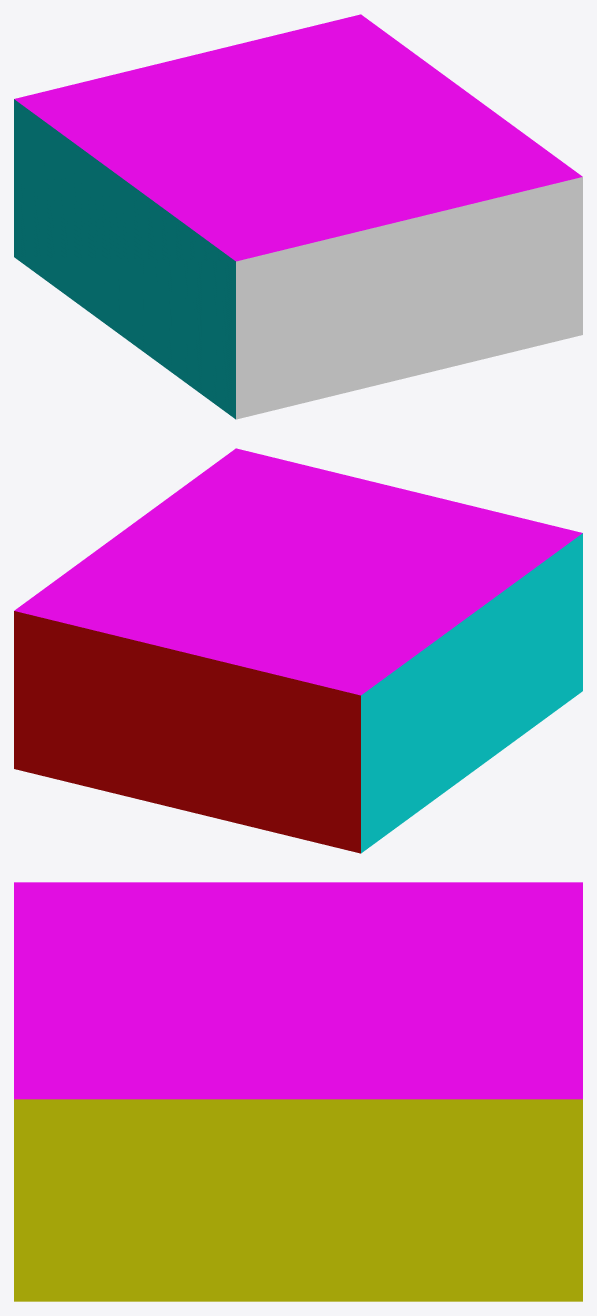
Rendered from layout_test4.gltf.
The picture shows the model from 3 angles, top to bottom: view 1: azimuth 30°, elevation 25°; view 2: azimuth 150°, elevation 25°; view 3: azimuth 270°, elevation 25°; orthographic projection. The views are drawn at different scales.
Parts seen in each view (by area): view 1: pasted__pCube1; view 2: pasted__pCube1; view 3: pasted__pCube1.
Boxes of the visible parts, box(x1,y1,x2,y2) form: pasted__pCube1: box(14, 14, 582, 419); pasted__pCube1: box(14, 448, 582, 853); pasted__pCube1: box(14, 882, 582, 1301).
Size of the model in its own units: 25.49 by 11.1 by 28.25.
